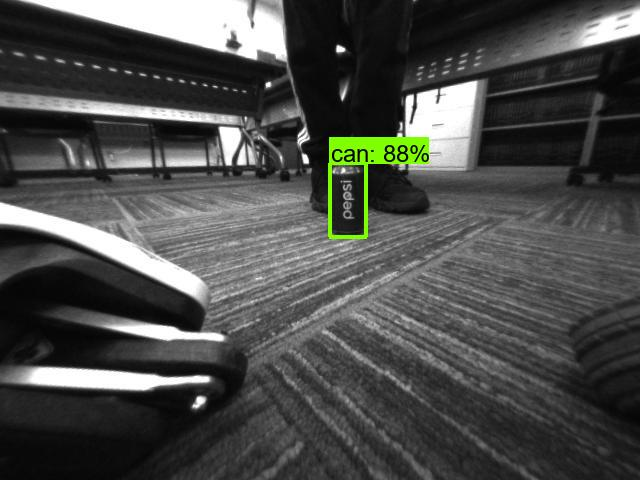can: (330, 161, 368, 237)
